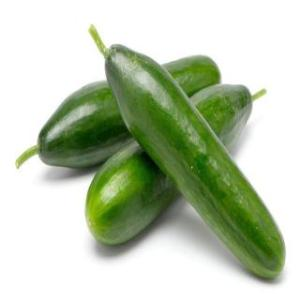cucumber: (104, 42, 290, 282), (84, 82, 255, 248), (38, 55, 224, 170)
